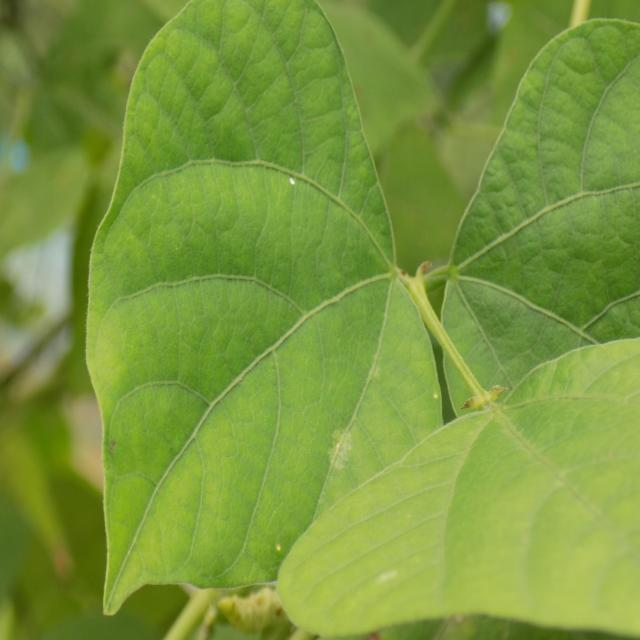Dolicos bean_healthy: (90, 0, 447, 621), (274, 335, 640, 640), (427, 18, 640, 434)
